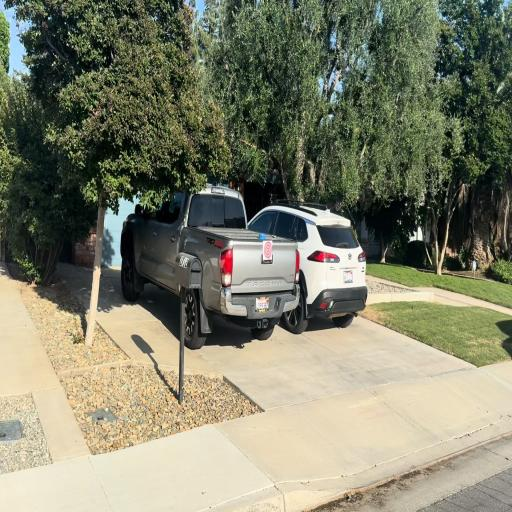bullseye: (263, 241, 273, 260)
